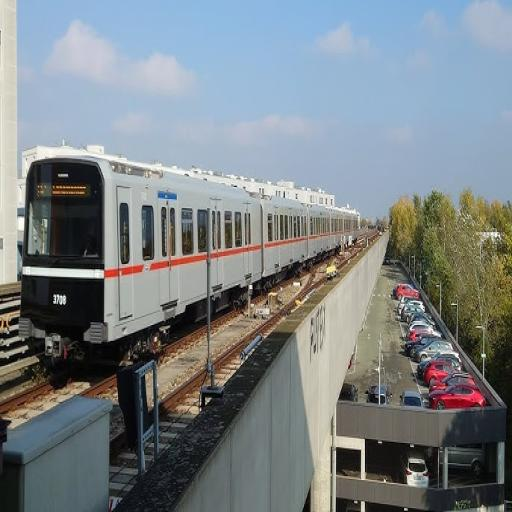X-Wagen: (20, 155, 360, 350)
